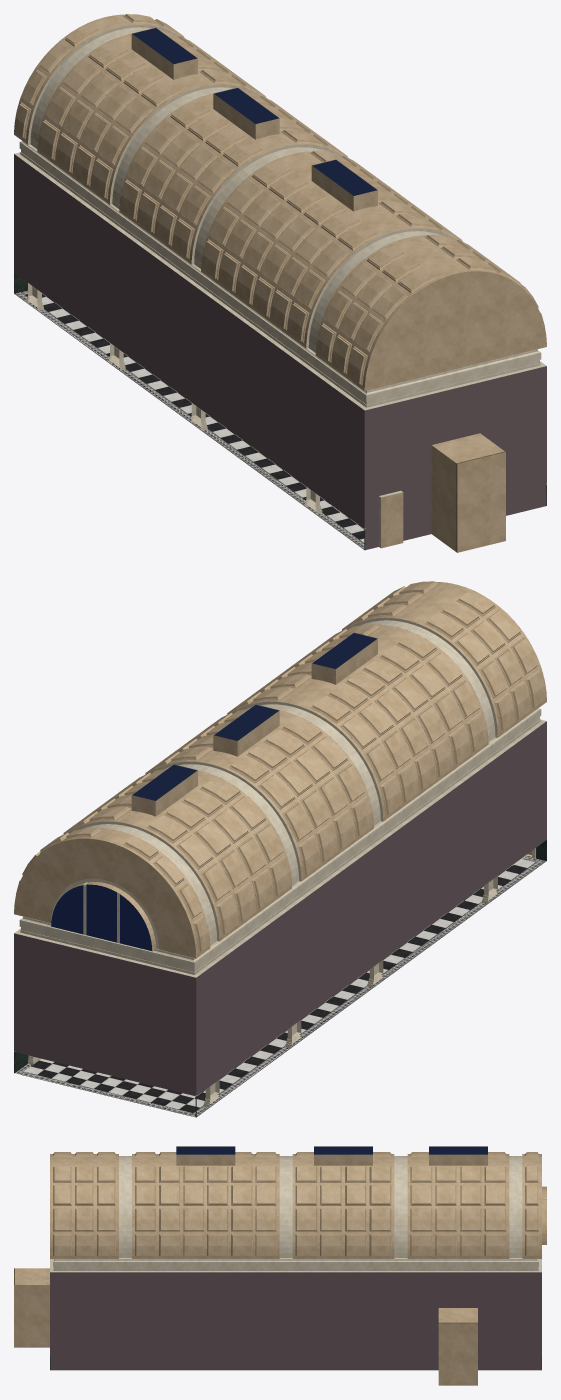
Rendered from sala.glb.
The picture shows the model from 3 angles, top to bottom: view 1: azimuth 30°, elevation 25°; view 2: azimuth 150°, elevation 25°; view 3: azimuth 270°, elevation 25°; orthographic projection. The views are drawn at different scales.
Parts seen in each view (by area): view 1: muros, boveda, suelo, emisivos; view 2: muros, boveda, suelo, emisivos; view 3: muros, boveda, emisivos.
Boxes of the visible parts, x1,y1,x2,y2 form: muros: [14, 23, 546, 552]; boveda: [14, 14, 546, 390]; suelo: [15, 290, 364, 549]; emisivos: [106, 28, 376, 195]; muros: [14, 613, 546, 1117]; boveda: [14, 581, 546, 958]; suelo: [15, 856, 546, 1117]; emisivos: [51, 633, 376, 950]; muros: [14, 1186, 546, 1385]; boveda: [50, 1146, 541, 1258]; emisivos: [176, 1146, 487, 1154].
Bounding box in the file's own units: 11.32 × 12.7 × 32.5.
Materials: 20 (8 with a texture image).
